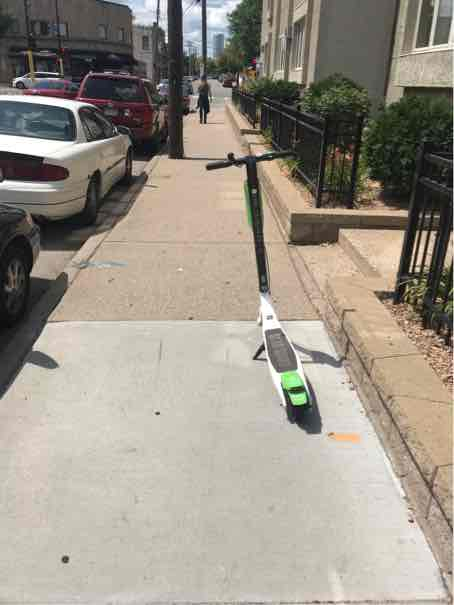scooter: (197, 139, 321, 431)
